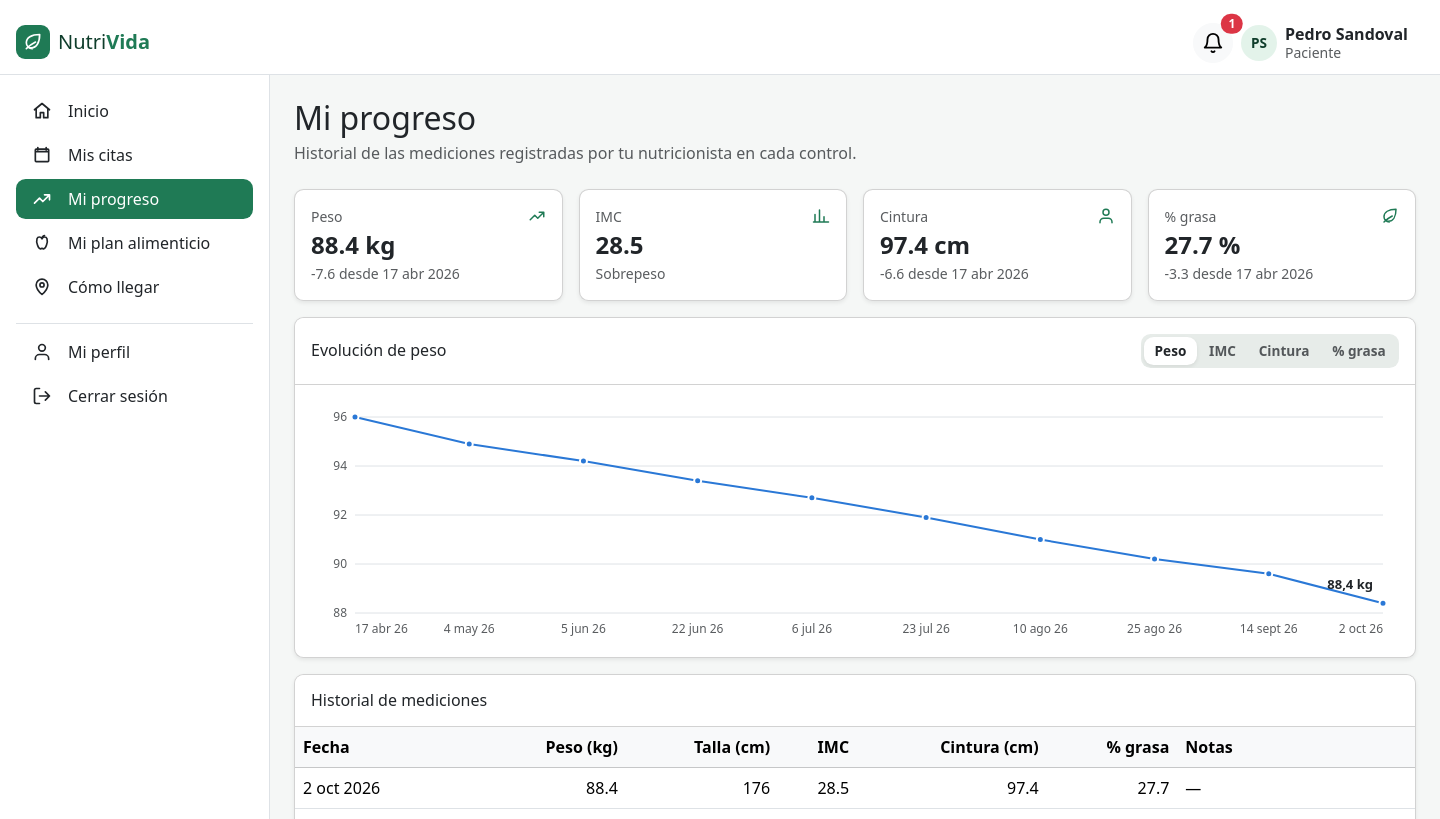
Vistas del paciente › Mi progreso: muestra el historial y cambia de indicador en el gráfico
Check: the heading "Historial de mediciones" is shown, box x1=311 y1=689 x2=487 y2=711
Check: the heading "Evolución de peso" is shown, box x1=311 y1=342 x2=446 y2=361
Click the button "Cintura" at coordinates (1284, 351), box x1=1248 y1=337 x2=1320 y2=365
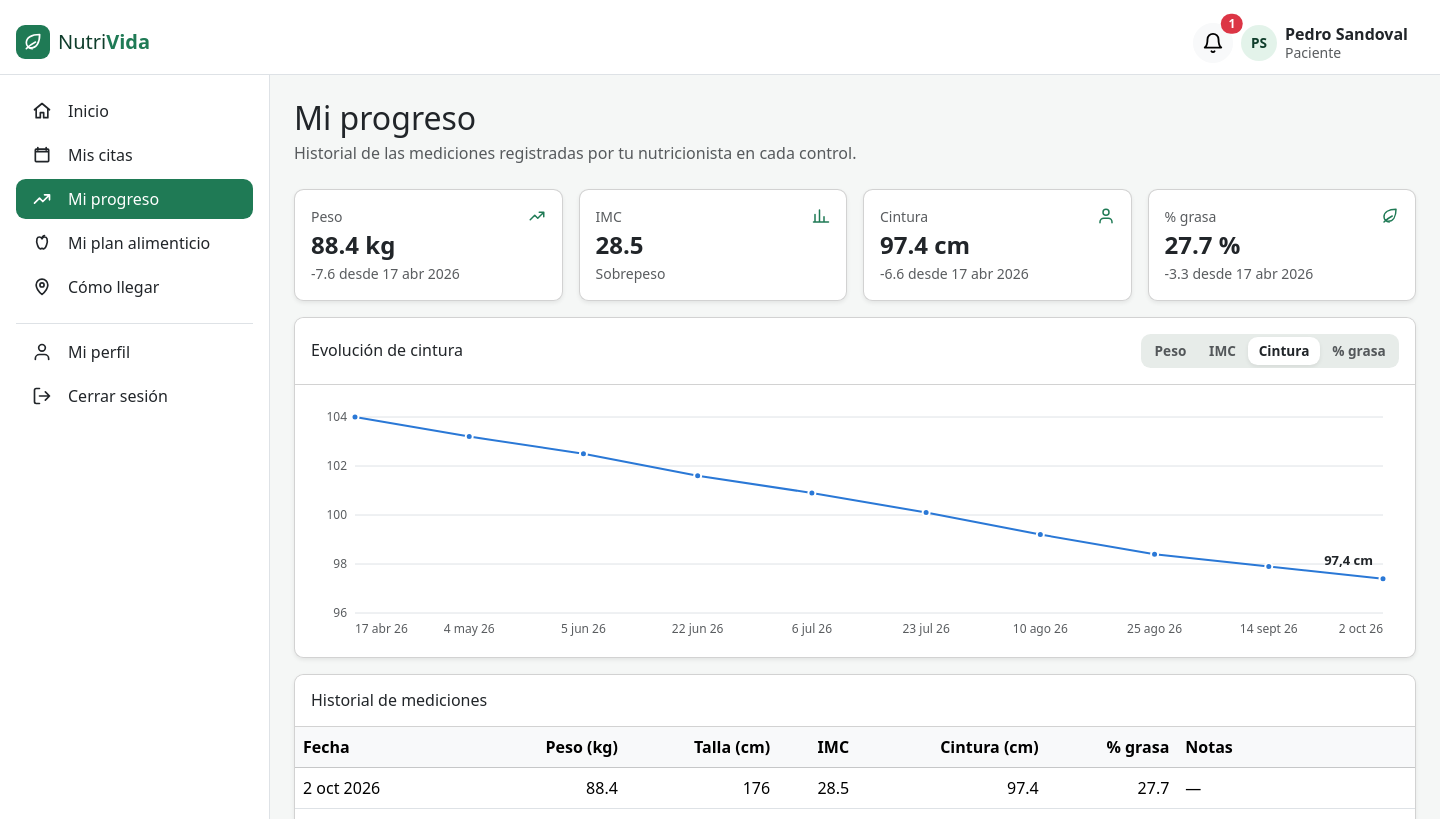
Check: the heading "Evolución de cintura" is shown, box x1=311 y1=342 x2=463 y2=361
